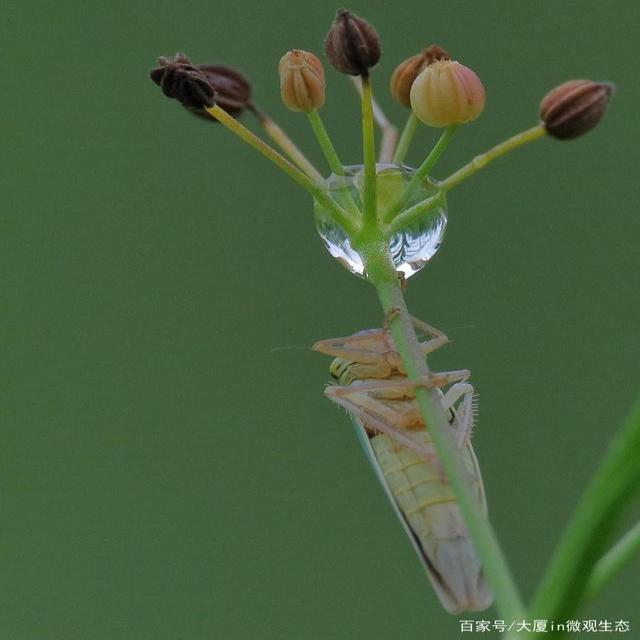Yechan: (316, 322, 508, 614)
